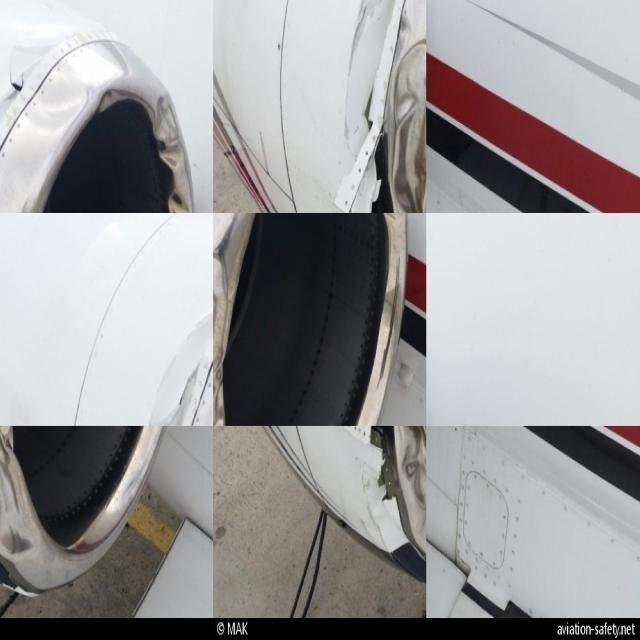dent: (29, 80, 89, 135), (2, 472, 36, 551), (157, 95, 185, 170)
